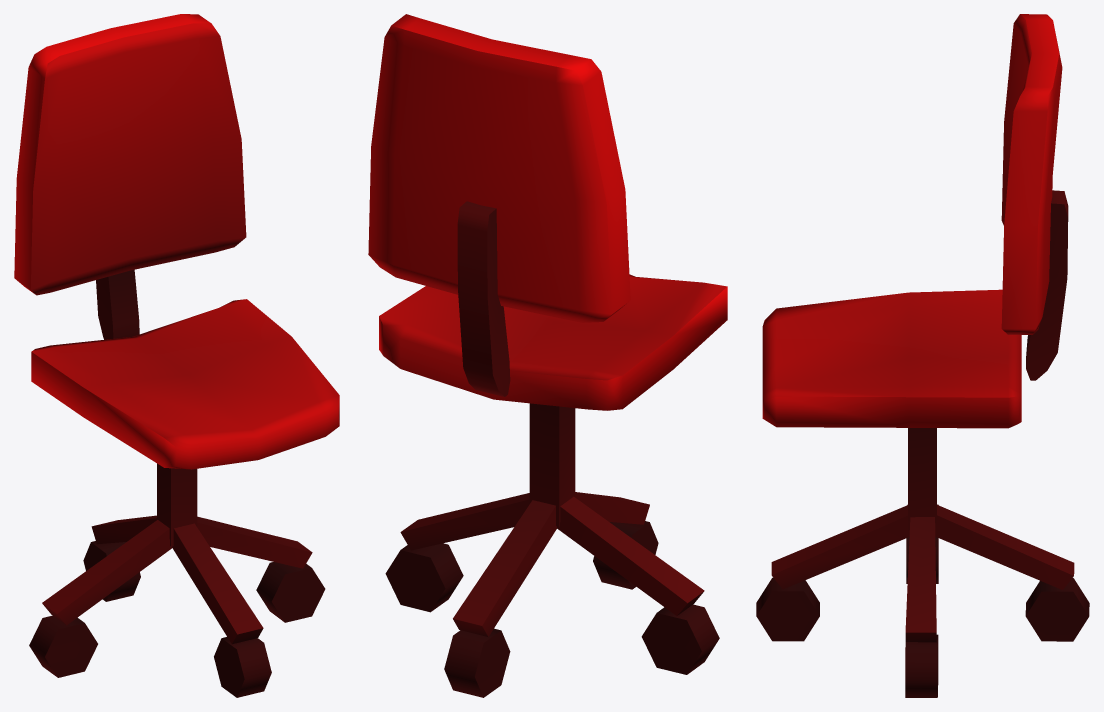
Rendered from OfficeChair.glb.
The picture shows the model from 3 angles, left to right: view 1: azimuth 30°, elevation 25°; view 2: azimuth 150°, elevation 25°; view 3: azimuth 270°, elevation 25°; orthographic projection. The views are drawn at different scales.
Visible parts, largest first — view 1: OfficeChair; view 2: OfficeChair; view 3: OfficeChair.
Part boxes in pixels (x1,y1,x2,y2): OfficeChair: (14, 14, 339, 697); OfficeChair: (368, 14, 727, 697); OfficeChair: (756, 14, 1089, 697).
Size of the model in its own units: 2.47 by 4.75 by 2.47.
